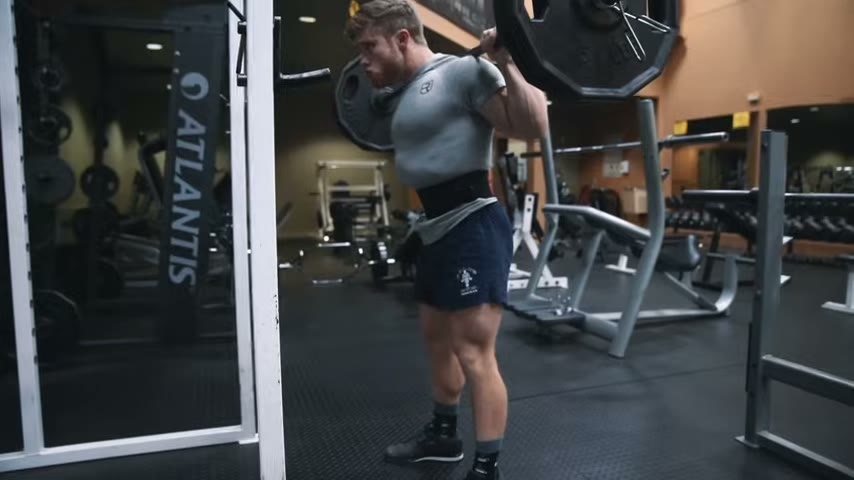barbell_plate_side: (328, 7, 402, 155), (624, 1, 685, 106)
